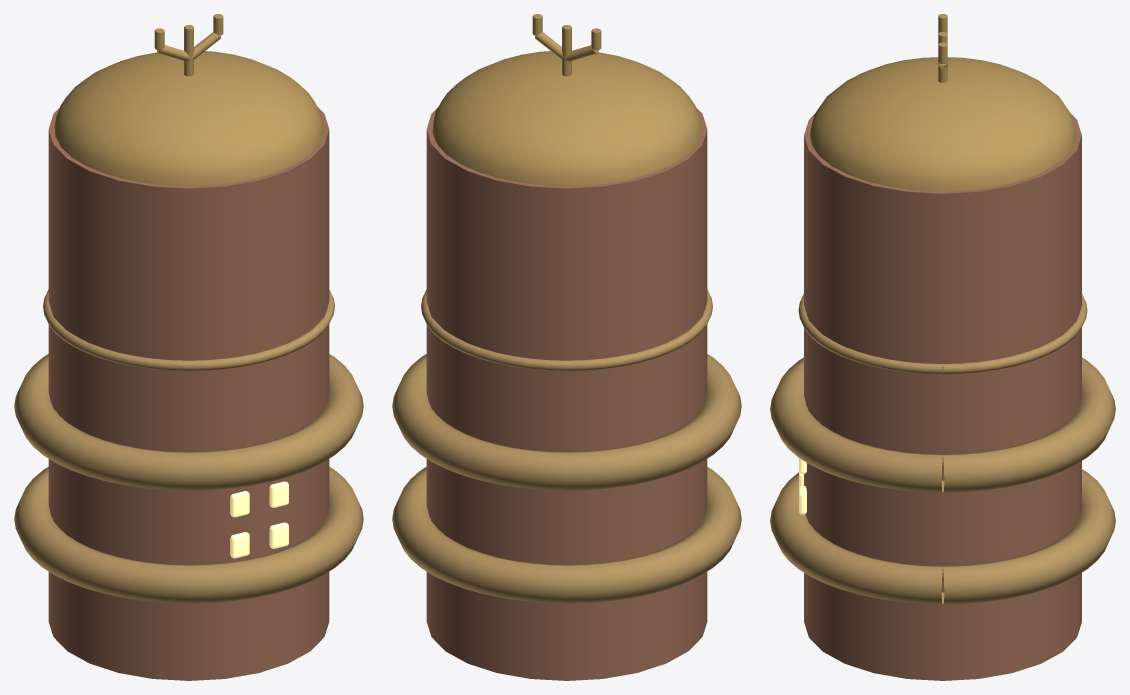
3 views of the same model, side by side, from view 1: azimuth 30°, elevation 25°; view 2: azimuth 150°, elevation 25°; view 3: azimuth 270°, elevation 25° (orthographic).
Parts seen in each view (by area): view 1: Cylindrical tower, Tower crown, Tower intermediate ledge, Tower intermediate ledge.001, Tower seam; view 2: Cylindrical tower, Tower crown, Tower intermediate ledge, Tower intermediate ledge.001, Tower seam; view 3: Cylindrical tower, Tower crown, Tower intermediate ledge.001, Tower intermediate ledge, Tower seam.
Boxes of the visible parts, box(x1,y1,x2,y2) form: Cylindrical tower: box(48, 107, 329, 680); Tower crown: box(54, 51, 323, 185); Tower intermediate ledge: box(14, 467, 363, 603); Tower intermediate ledge.001: box(14, 354, 363, 490); Tower seam: box(43, 289, 334, 370); Cylindrical tower: box(426, 107, 707, 680); Tower crown: box(432, 51, 701, 185); Tower intermediate ledge: box(392, 467, 741, 603); Tower intermediate ledge.001: box(392, 354, 741, 490); Tower seam: box(421, 289, 712, 370); Cylindrical tower: box(804, 114, 1081, 680); Tower crown: box(809, 57, 1076, 191); Tower intermediate ledge.001: box(770, 357, 1115, 492); Tower intermediate ledge: box(770, 469, 1115, 604); Tower seam: box(798, 294, 1087, 374).
Size of the model in its own units: 1.54 by 2.92 by 1.54.
